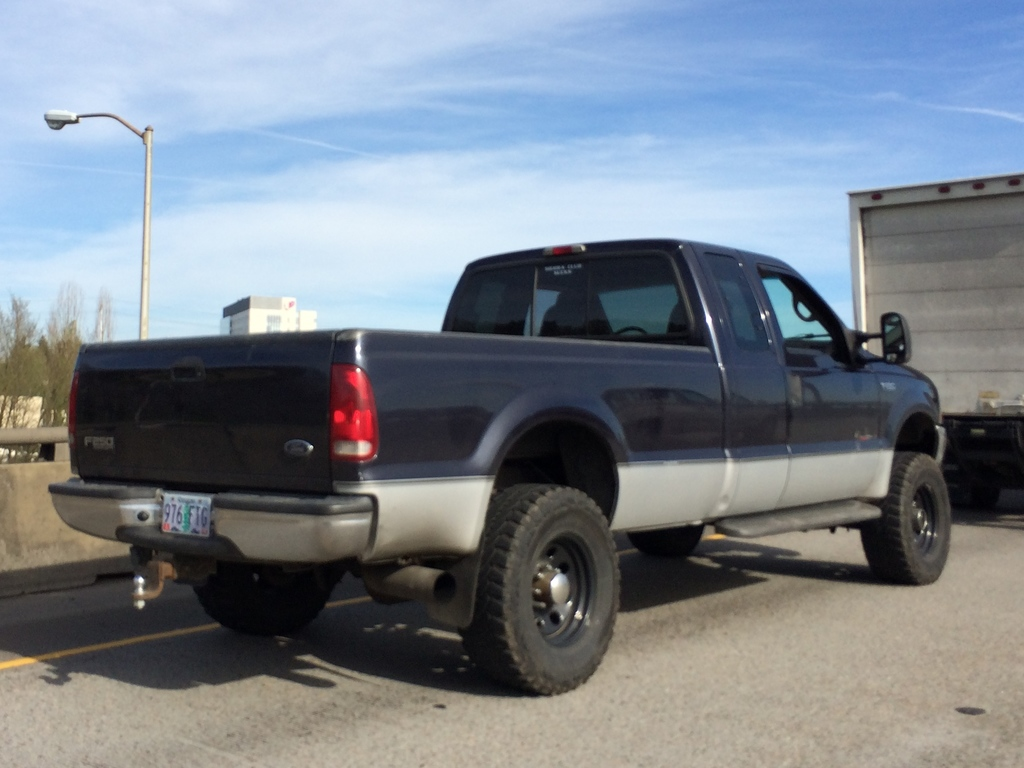Truck: (48, 238, 950, 694)
